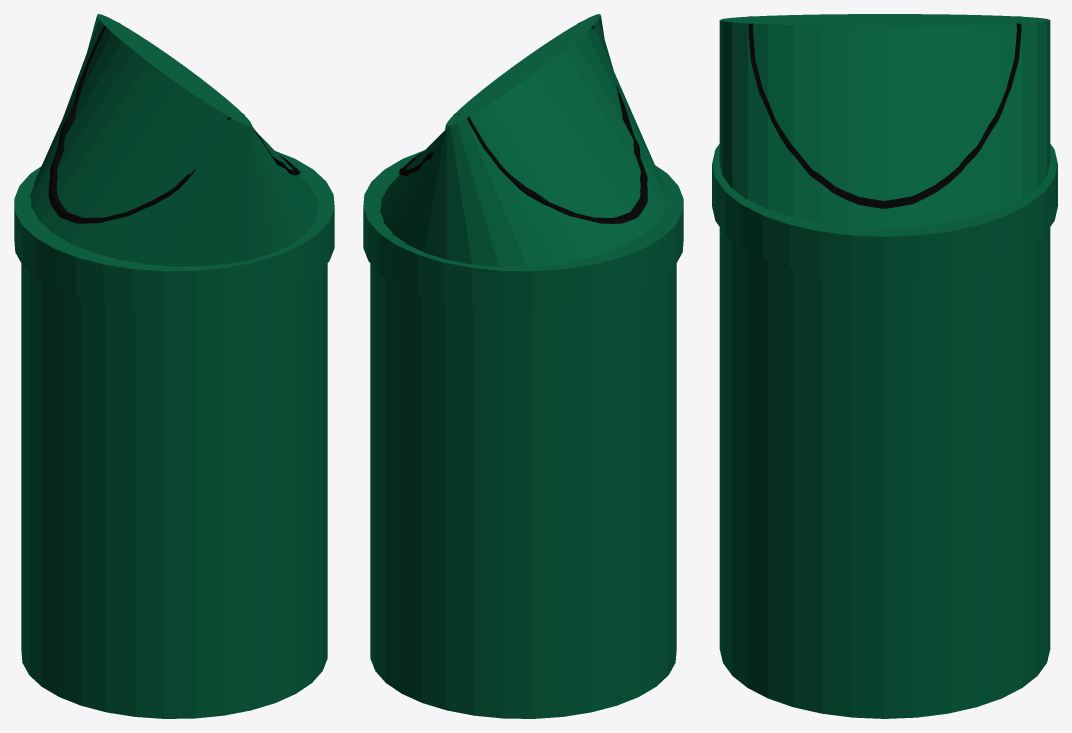
Rendered from trash can 2.fbx.
The picture shows the model from 3 angles, left to right: view 1: azimuth 30°, elevation 25°; view 2: azimuth 150°, elevation 25°; view 3: azimuth 270°, elevation 25°; orthographic projection. The views are drawn at different scales.
Parts seen in each view (by area): view 1: Cylinder.014, Cylinder.017; view 2: Cylinder.014, Cylinder.017; view 3: Cylinder.014, Cylinder.017.
Part boxes in pixels (x1,y1,x2,y2): Cylinder.014: (14, 14, 334, 718); Cylinder.017: (48, 22, 300, 223); Cylinder.014: (363, 14, 683, 718); Cylinder.017: (399, 22, 647, 223); Cylinder.014: (712, 14, 1057, 718); Cylinder.017: (748, 16, 1021, 208).
Size of the model in its own units: 830 by 1666 by 830.
